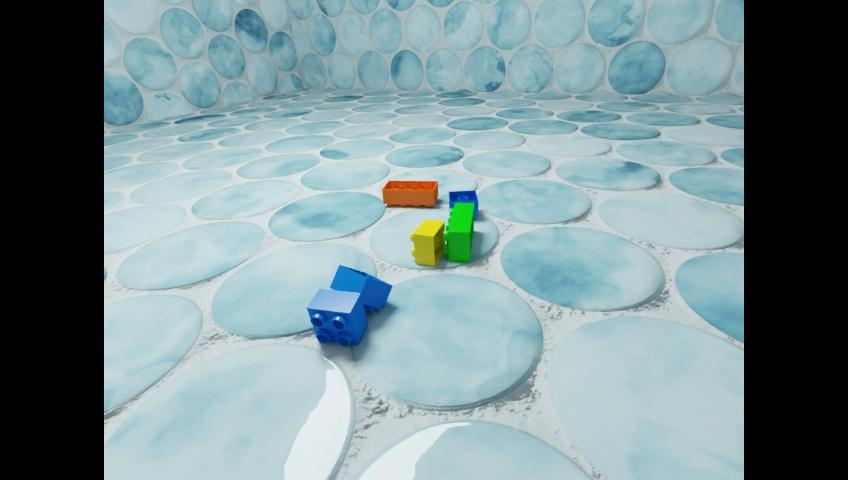2x2_blue: (306, 288, 367, 346), (329, 264, 391, 311), (448, 190, 479, 216)
2x2_yellow: (410, 218, 444, 266)
4x2_green: (443, 202, 475, 261)
4x2_orange: (381, 179, 437, 207)
